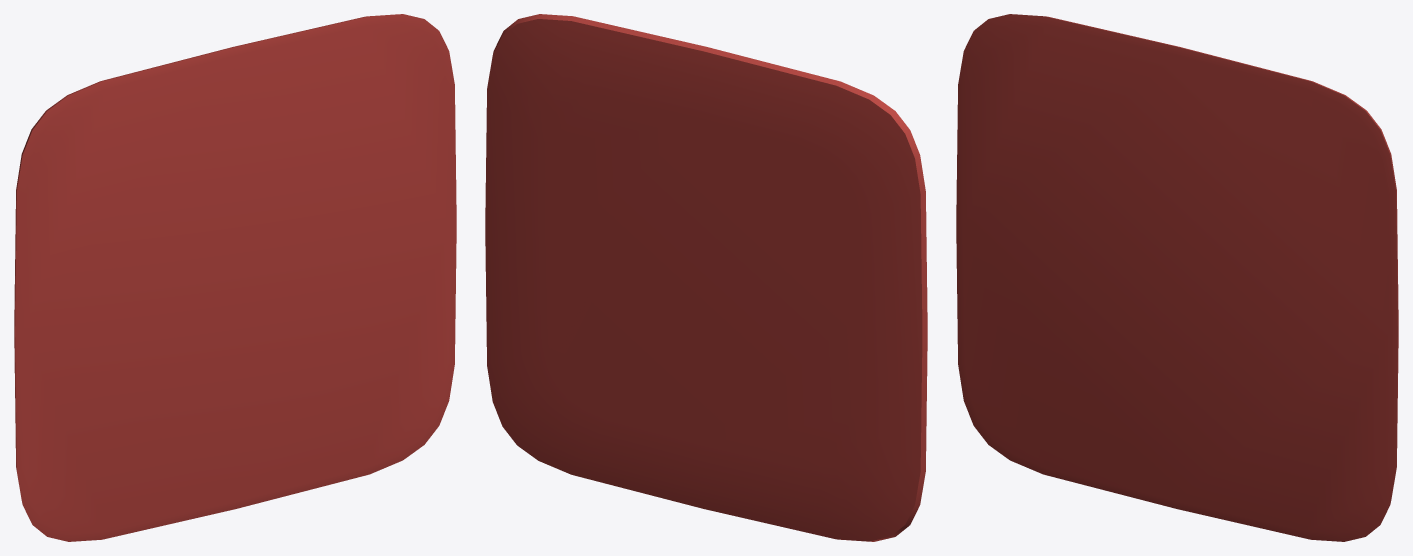
Rendered from rect.glb.
3 views of the same model, side by side, from view 1: azimuth 30°, elevation 25°; view 2: azimuth 150°, elevation 25°; view 3: azimuth 330°, elevation 25° (orthographic).
Visible parts, largest first — view 1: lod0; view 2: lod0; view 3: lod0.
Part boxes in pixels (box(x1,y1,x2,y2)): lod0: box(14, 14, 456, 541); lod0: box(485, 14, 927, 541); lod0: box(956, 14, 1398, 541).
Size of what is drawn, in the model's own units: 1 by 1 by 0.024.
